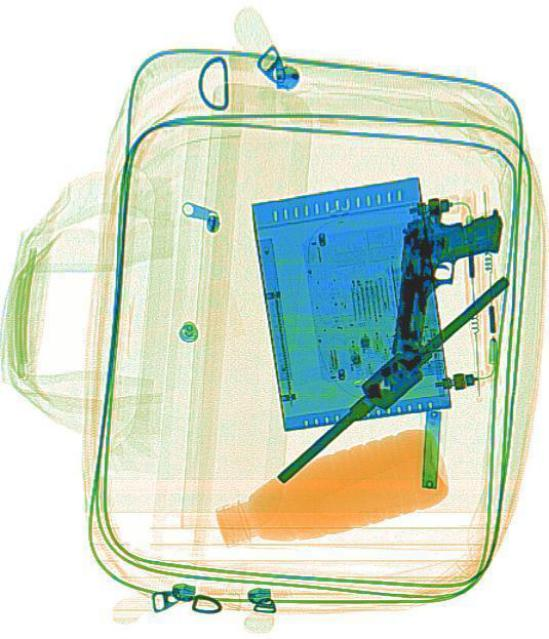Gun: (387, 189, 502, 364)
